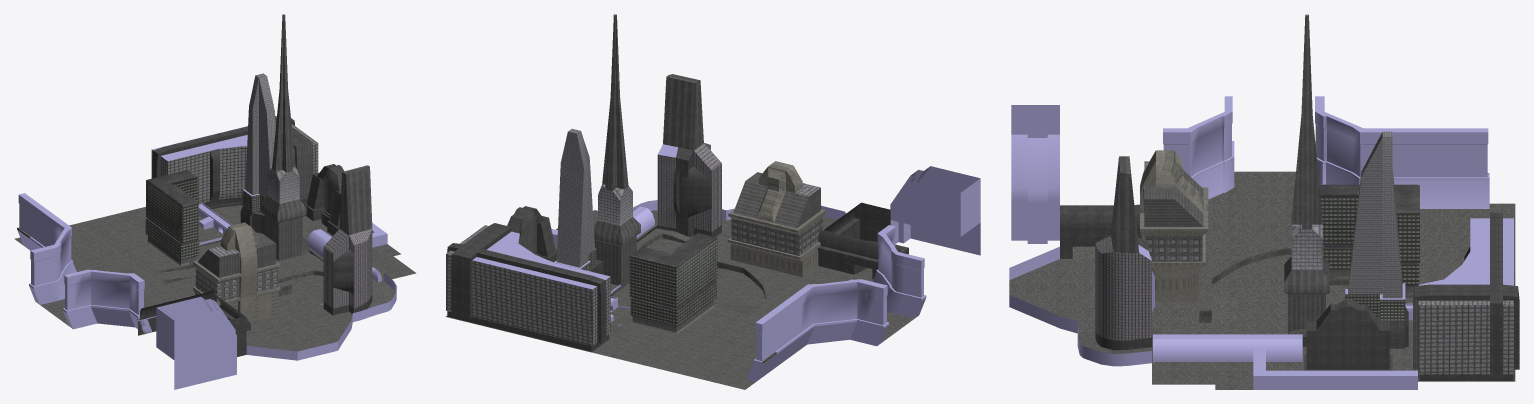
Rendered from baseplate4.fbx.
3 views of the same model, side by side, from view 1: azimuth 30°, elevation 25°; view 2: azimuth 150°, elevation 25°; view 3: azimuth 270°, elevation 25° (orthographic). The views are drawn at different scales.
Parts seen in each view (by area): view 1: Plane; view 2: Plane; view 3: Plane.
Part boxes in pixels (left/top/right/bottom): Plane: left=14, top=14, right=416, bottom=389; Plane: left=445, top=14, right=980, bottom=389; Plane: left=1009, top=14, right=1519, bottom=389.
Bounding box in the file's own units: 161110 × 114625 × 164180.
